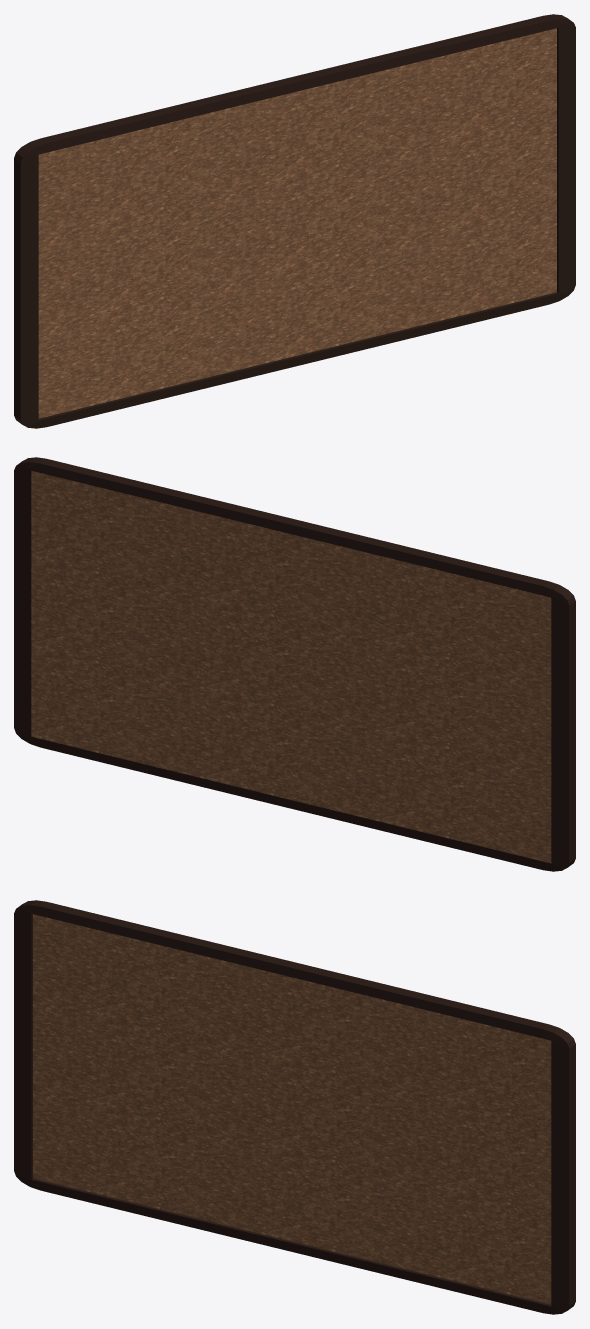
File: Canvas.fbx
The picture shows the model from 3 angles, top to bottom: view 1: azimuth 30°, elevation 25°; view 2: azimuth 150°, elevation 25°; view 3: azimuth 330°, elevation 25°; orthographic projection.
Parts seen in each view (by area): view 1: Canvas; view 2: Canvas; view 3: Canvas.
Part boxes in pixels (x1,y1,x2,y2): Canvas: (14,14,575,428); Canvas: (14,457,575,871); Canvas: (14,900,575,1314).
Size of the model in its own units: 269 by 131 by 6.15.
